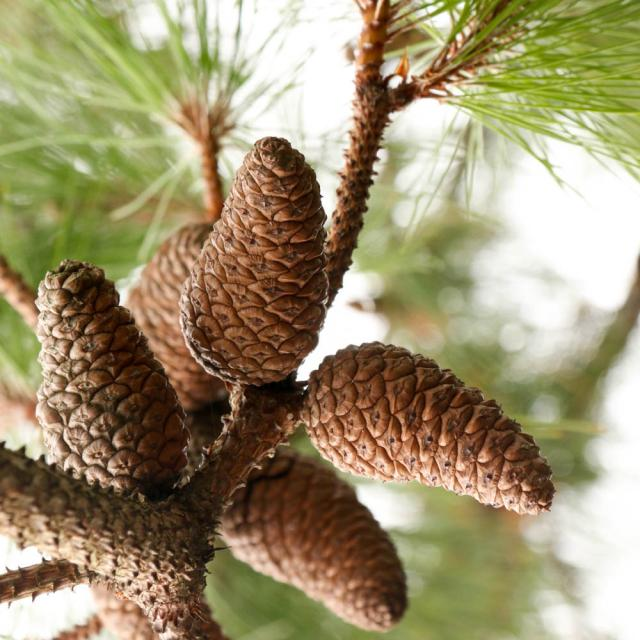Pinus Thunbergii: (7, 6, 640, 626)
